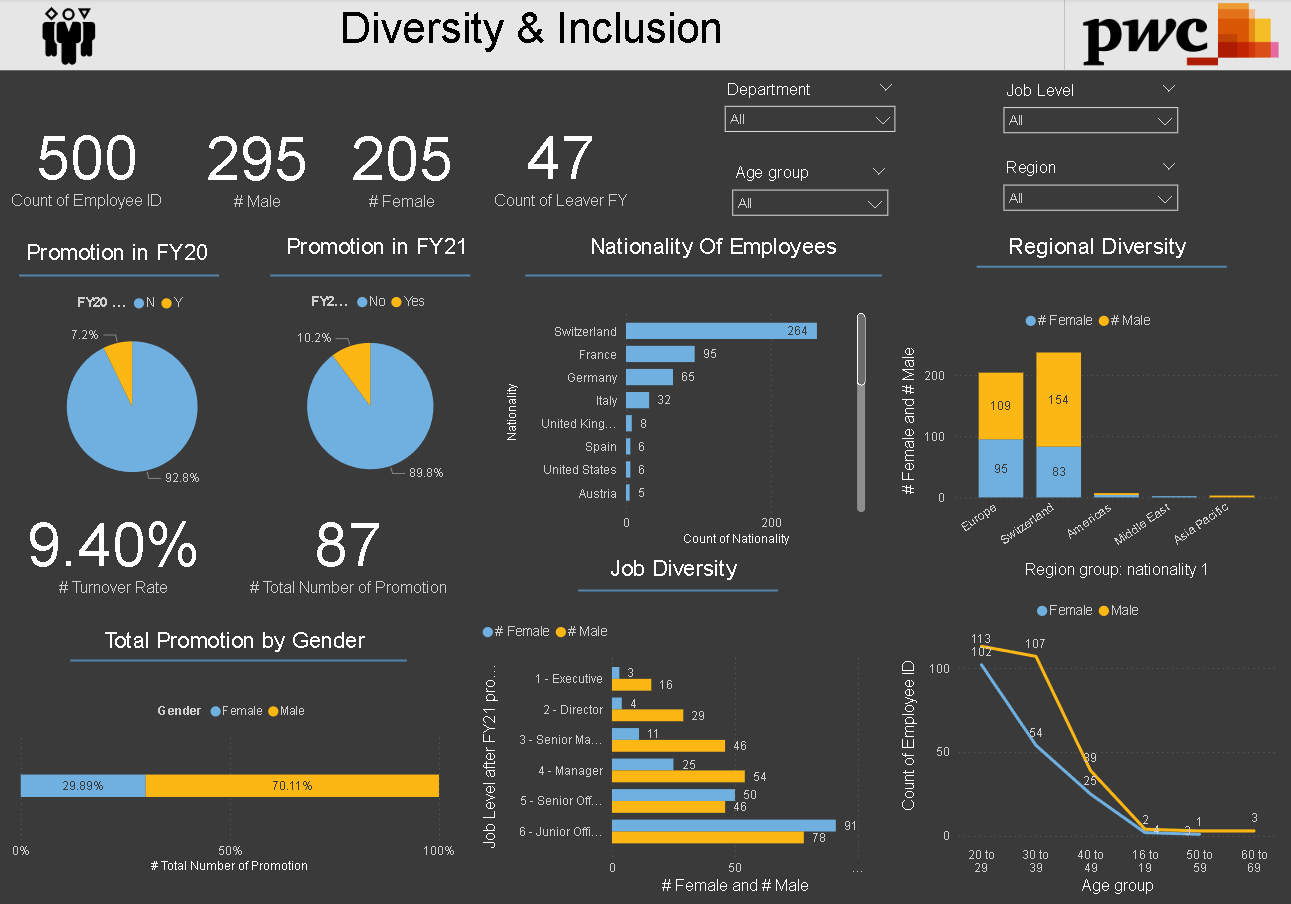

The dashboard page shown, as its layout file describes it:
{"tool":"powerbi","page":{"name":"Page 3","canvas":[1280,900],"ordinal":2},"visuals":[{"type":"card","fields":{"Values":["CountNonNull(Pharma Group AG.Employee ID)"]},"box":[20.9,83.7,174.9,109.6],"z":0},{"type":"card","fields":{"Values":["Pharma Group AG.# Male"]},"box":[197,86.2,149,109.6],"z":1000},{"type":"card","fields":{"Values":["Pharma Group AG.# Female"]},"box":[367,86.2,135.5,109.6],"z":2000},{"type":"card","fields":{"Values":["CountNonNull(Pharma Group AG.Leaver FY)"]},"box":[519.7,86.2,166.3,109.6],"z":3000},{"type":"card","fields":{"Values":["Pharma Group AG.# Total Number of Promotion"]},"box":[235.2,495.1,220.4,96.1],"z":4000},{"type":"slicer","fields":{"Values":["Pharma Group AG.Last Department in FY20"]},"box":[705.7,75.1,188.4,64],"z":5000},{"type":"slicer","fields":{"Values":["Pharma Group AG.Job Level after FY21 promotions"]},"box":[980.3,76.4,192.1,65.3],"z":6000},{"type":"slicer","fields":{"Values":["Pharma Group AG.Age group"]},"box":[713.1,157.6,173.6,59.1],"z":7000},{"type":"slicer","fields":{"Values":["Pharma Group AG.Broad region group: nationality 1"]},"box":[980.3,152.7,192.1,69],"z":8000},{"type":"pieChart","title":"FY20 Promotion","fields":{"Y":["CountNonNull(Pharma Group AG.Promotion in FY20?)"],"Category":["Pharma Group AG.Promotion in FY20?"]},"box":[0,280.8,264.8,214.3],"z":9000},{"type":"pieChart","title":"FY20 Promotion","fields":{"Category":["Pharma Group AG.Promotion in FY21?"],"Y":["CountNonNull(Pharma Group AG.Promotion in FY21?)"]},"box":[251.2,279.6,231.5,215.5],"z":10000},{"type":"hundredPercentStackedBarChart","title":"FY20 Promotion","fields":{"Y":["Pharma Group AG.# Total Number of Promotion"],"Series":["Pharma Group AG.Gender"]},"box":[8.6,683.5,447,183.5],"z":11000},{"type":"clusteredBarChart","title":"FY20 Promotion","fields":{"Category":["Pharma Group AG.Nationality 1"],"Y":["CountNonNull(Pharma Group AG.Nationality 1)"]},"box":[496.3,298,363.3,246.3],"z":12000},{"type":"clusteredBarChart","title":"FY20 Promotion","fields":{"Y":["Pharma Group AG.# Female","Pharma Group AG.# Male"],"Category":["Pharma Group AG.Job Level after FY21 promotions"]},"box":[471.7,604.7,387.9,283.3],"z":13000},{"type":"columnChart","title":"FY20 Promotion","fields":{"Category":["Pharma Group AG.Region group: nationality 1"],"Y":["Pharma Group AG.# Female","Pharma Group AG.# Male"]},"box":[884.2,298,383,278.3],"z":14000},{"type":"lineChart","title":"FY20 Promotion","fields":{"Category":["Pharma Group AG.Age group"],"Y":["CountNonNull(Pharma Group AG.Employee ID)"],"Series":["Pharma Group AG.Gender"]},"box":[884.2,583.7,383,304.2],"z":15000},{"type":"card","fields":{"Values":["Pharma Group AG.# Turnover Rate"]},"box":[20.9,495.1,186,96.1],"z":16000},{"type":"textbox","box":[533.3,544.3,264.8,46.8],"z":17000},{"type":"textbox","box":[251.2,226.6,245.1,46.8],"z":18000},{"type":"textbox","box":[71.4,614.5,322.7,46.8],"z":19000},{"type":"textbox","box":[566.5,226.6,277.1,46.8],"z":20000},{"type":"textbox","box":[955.7,226.6,254.9,46.8],"z":21000},{"type":"textbox","box":[0,232.8,235.2,46.8],"z":22000},{"type":"shape","box":[20.9,225.4,197,96.1],"z":23000},{"type":"shape","box":[268.5,225.4,197,96.1],"z":24000},{"type":"shape","box":[519.7,225.4,351,96.1],"z":25000},{"type":"shape","box":[964.3,216.7,246.3,96.1],"z":26000},{"type":"shape","box":[71.4,604.7,331.3,96.1],"z":27000},{"type":"shape","box":[571.4,535.7,197,96.1],"z":28000},{"type":"textbox","box":[0,0,1050.5,71.4],"z":29000},{"type":"image","box":[1050.5,0,229.1,71.4],"z":30000},{"type":"image","box":[0,3.7,140.4,67.7],"z":31000}]}

Visuals, with their boxes in screenshot pixels (x1, y1, x2, y2), scaled from the page's 1280x900 canvas onto the 1291x904 screenshot:
card - CountNonNull(Pharma Group AG.Employee ID): crop(21, 84, 197, 194)
card - Pharma Group AG.# Male: crop(199, 87, 349, 197)
card - Pharma Group AG.# Female: crop(370, 87, 507, 197)
card - CountNonNull(Pharma Group AG.Leaver FY): crop(524, 87, 692, 197)
card - Pharma Group AG.# Total Number of Promotion: crop(237, 497, 460, 594)
slicer - Pharma Group AG.Last Department in FY20: crop(712, 75, 902, 140)
slicer - Pharma Group AG.Job Level after FY21 promotions: crop(989, 77, 1182, 142)
slicer - Pharma Group AG.Age group: crop(719, 158, 894, 218)
slicer - Pharma Group AG.Broad region group: nationality 1: crop(989, 153, 1182, 223)
"FY20 Promotion" pieChart: crop(0, 282, 267, 497)
"FY20 Promotion" pieChart: crop(253, 281, 487, 497)
"FY20 Promotion" hundredPercentStackedBarChart: crop(9, 687, 460, 871)
"FY20 Promotion" clusteredBarChart: crop(501, 299, 867, 547)
"FY20 Promotion" clusteredBarChart: crop(476, 607, 867, 892)
"FY20 Promotion" columnChart: crop(892, 299, 1278, 579)
"FY20 Promotion" lineChart: crop(892, 586, 1278, 892)
card - Pharma Group AG.# Turnover Rate: crop(21, 497, 209, 594)
textbox: crop(538, 547, 805, 594)
textbox: crop(253, 228, 501, 275)
textbox: crop(72, 617, 397, 664)
textbox: crop(571, 228, 851, 275)
textbox: crop(964, 228, 1221, 275)
textbox: crop(0, 234, 237, 281)
shape: crop(21, 226, 220, 323)
shape: crop(271, 226, 470, 323)
shape: crop(524, 226, 878, 323)
shape: crop(973, 218, 1221, 314)
shape: crop(72, 607, 406, 704)
shape: crop(576, 538, 775, 635)
textbox: crop(0, 0, 1060, 72)
image: crop(1060, 0, 1290, 72)
image: crop(0, 4, 142, 72)
